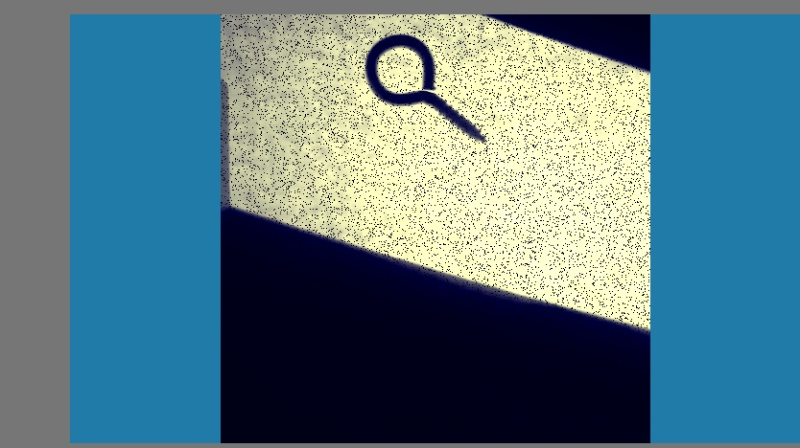O001: (359, 29, 488, 145)
